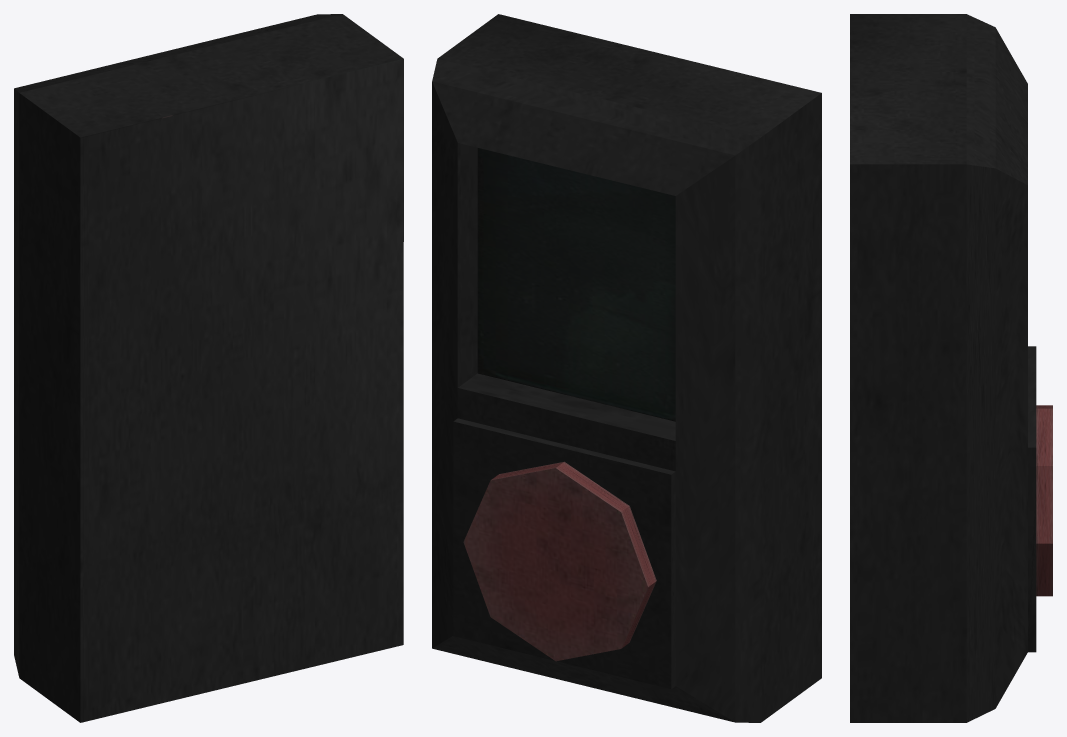
Rendered from MySCPButtonNew.fbx.
The picture shows the model from 3 angles, left to right: view 1: azimuth 30°, elevation 25°; view 2: azimuth 150°, elevation 25°; view 3: azimuth 270°, elevation 25°; orthographic projection. The views are drawn at different scales.
Parts seen in each view (by area): view 1: BodyOfButton; view 2: BodyOfButton, Cylinder; view 3: BodyOfButton, Cylinder.
Part boxes in pixels (left/top/right/bottom): BodyOfButton: left=14, top=14, right=403, bottom=722; BodyOfButton: left=432, top=14, right=821, bottom=722; Cylinder: left=463, top=461, right=656, bottom=661; BodyOfButton: left=850, top=14, right=1036, bottom=722; Cylinder: left=1036, top=405, right=1052, bottom=596.
Bounding box in the file's own units: 200 × 346 × 114.
Materials: 1 (1 with a texture image).
